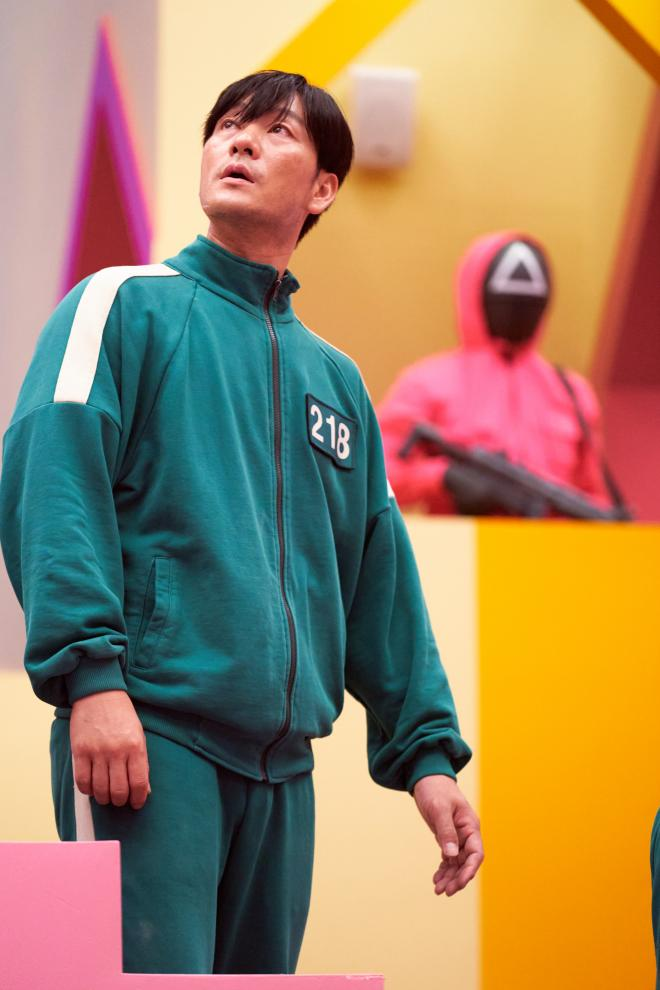without_mask: (204, 79, 313, 217)
